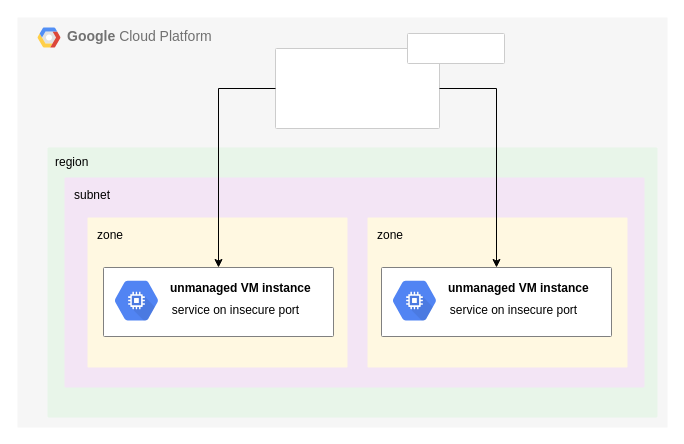
This 684x444 diagram has some shape labels left out. Here are the shapes that lost their labels. From the top down, the centre of each, then its label:
At point 455,48: "TLS Certificate".
At point 357,88: "global External HTTPS load balancer".
